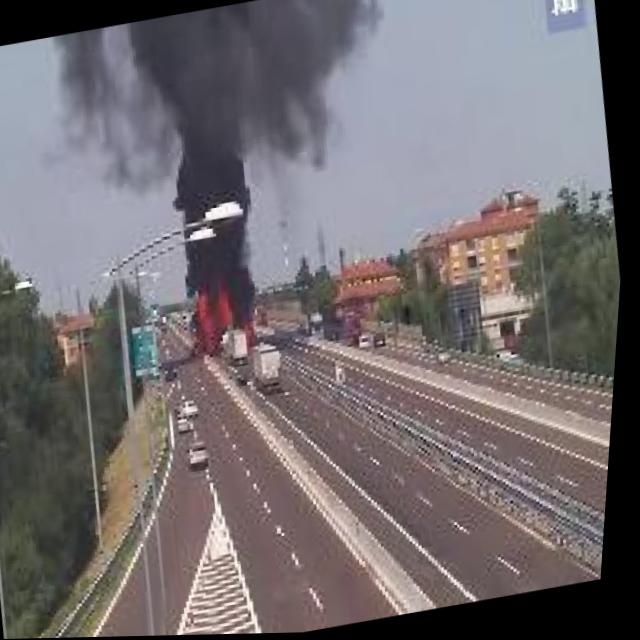fire: (192, 280, 265, 363)
